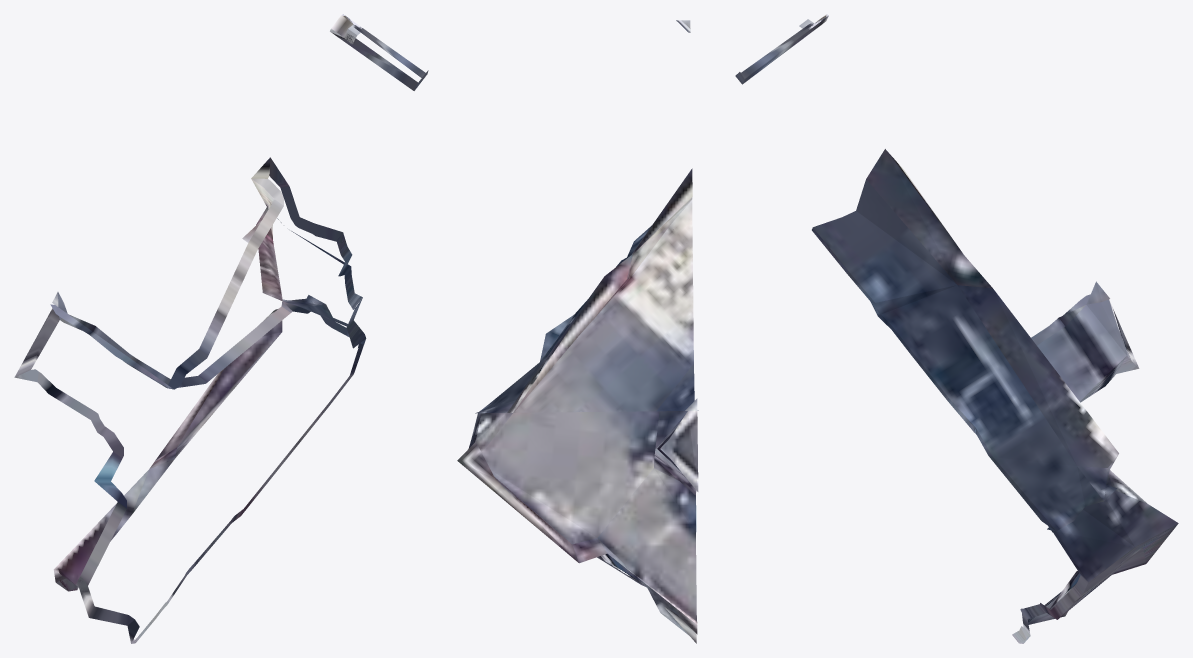
3 renders of one model, left to right at view 1: azimuth 30°, elevation 25°; view 2: azimuth 150°, elevation 25°; view 3: azimuth 270°, elevation 25°, orthographic. The views are drawn at different scales.
Size of the model in its own units: 14.27 by 29.09 by 17.02.
1 material, 1 textured.
